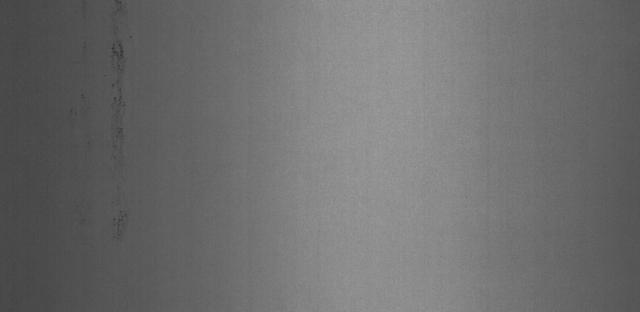inclusion: (102, 0, 145, 249)
